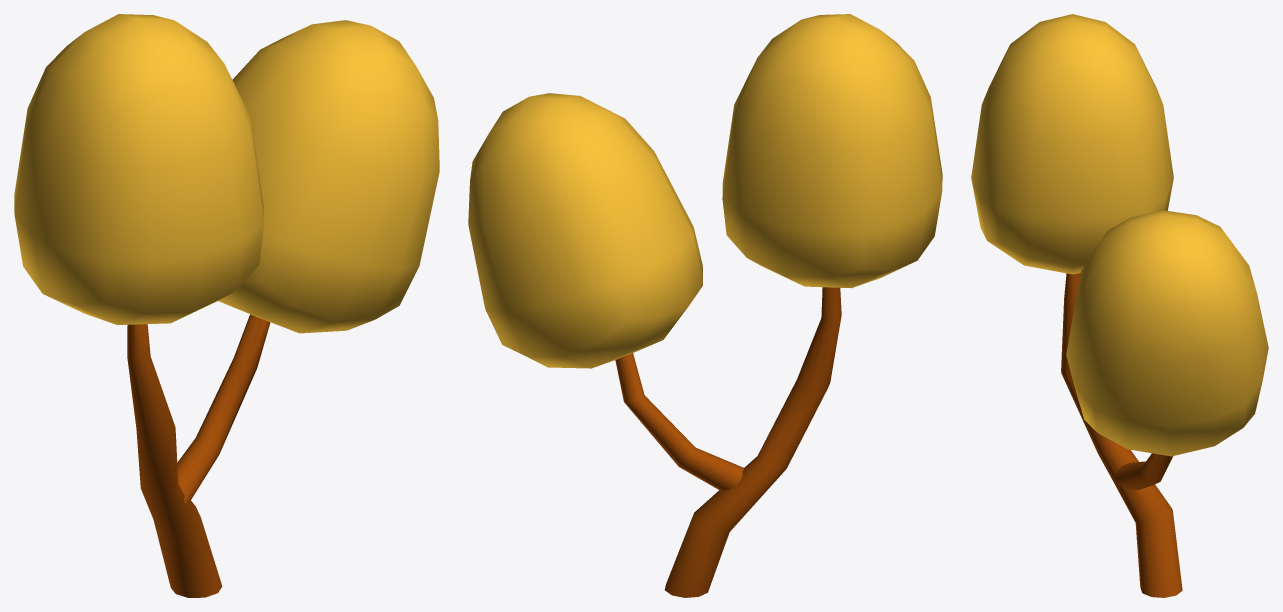
Rendered from Tree_29_Fall.fbx.
The picture shows the model from 3 angles, left to right: view 1: azimuth 30°, elevation 25°; view 2: azimuth 150°, elevation 25°; view 3: azimuth 270°, elevation 25°; orthographic projection. The views are drawn at different scales.
Parts seen in each view (by area): view 1: Tree_29_p2_Fall, Tree_29_p1_Fall; view 2: Tree_29_p2_Fall, Tree_29_p1_Fall; view 3: Tree_29_p2_Fall, Tree_29_p1_Fall.
Part boxes in pixels (bbox=[...]): Tree_29_p2_Fall: bbox=[14, 14, 439, 333]; Tree_29_p1_Fall: bbox=[127, 314, 270, 597]; Tree_29_p2_Fall: bbox=[468, 14, 942, 368]; Tree_29_p1_Fall: bbox=[615, 287, 841, 597]; Tree_29_p2_Fall: bbox=[971, 14, 1268, 456]; Tree_29_p1_Fall: bbox=[1061, 273, 1182, 597].
Bounding box in the file's own units: 287 × 392 × 201.
